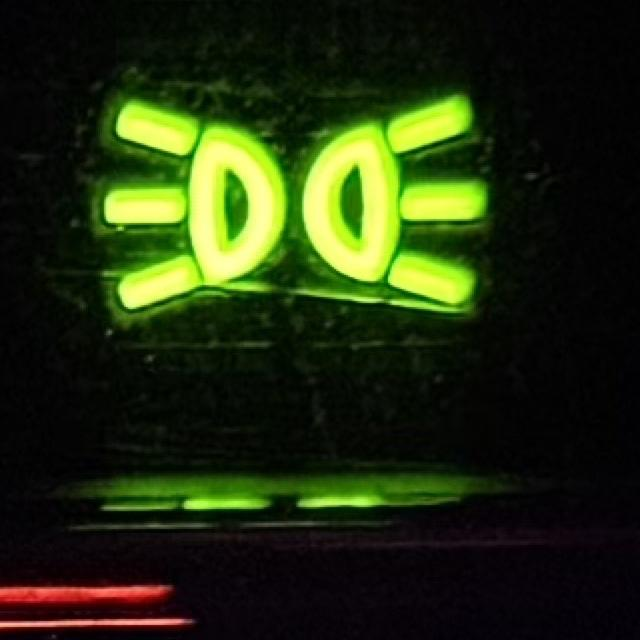Parking Light On: (91, 85, 494, 329)
